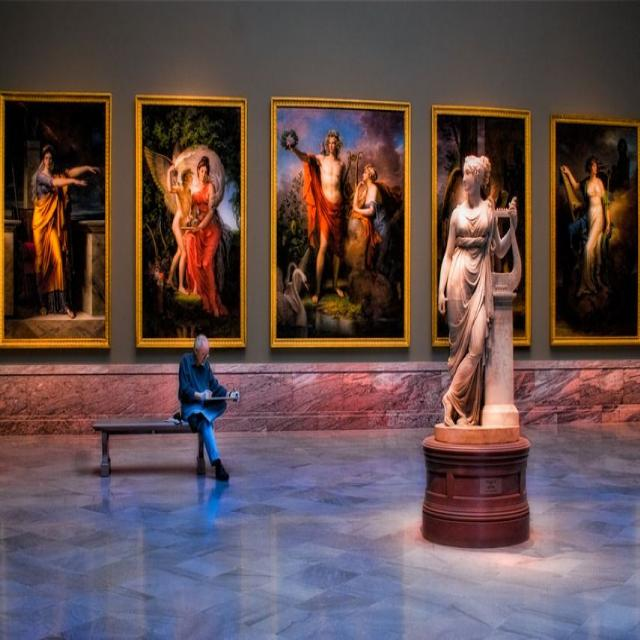Tablo: (274, 104, 407, 342), (1, 97, 108, 343), (138, 102, 243, 341), (435, 112, 528, 341), (554, 119, 639, 341)
